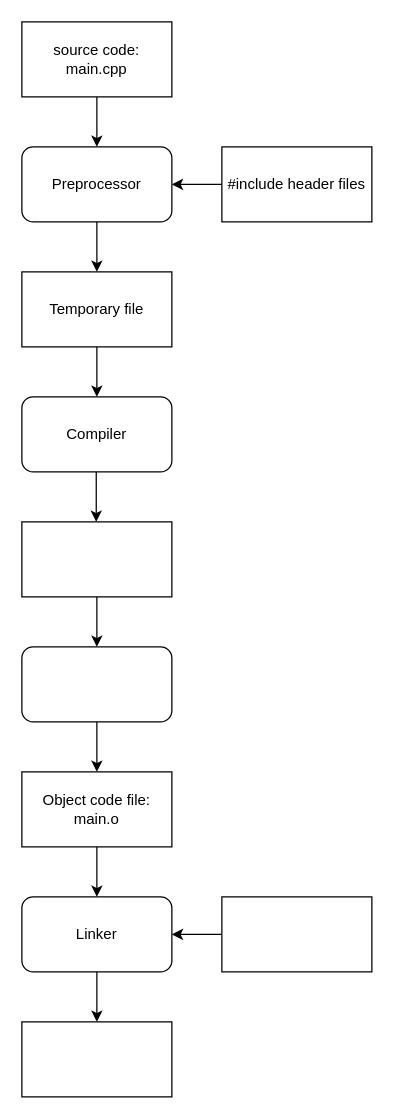
Image size: 394x1119. Some labels were removed from this diagram. Here are the shapes that lost their labels. From the top down, the centre of each, then its label:
[96,559]: Assembler file: main.s
[96,684]: Assembler
[296,934]: Library files
[96,1059]: Executable file: ./main
